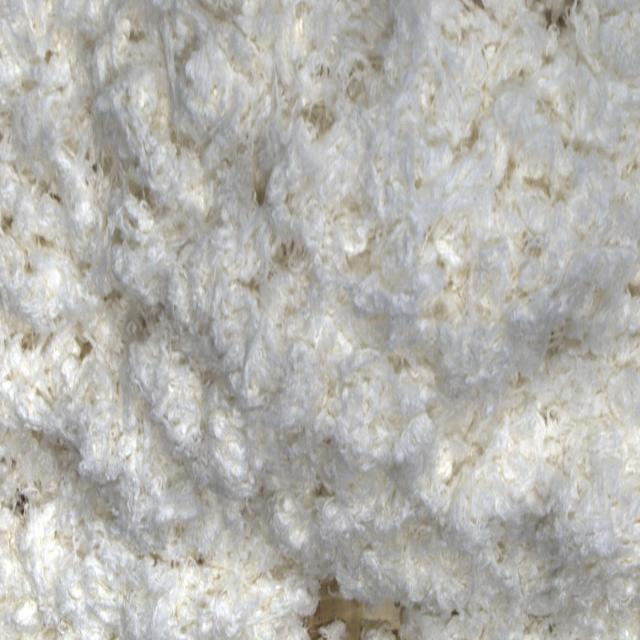dust: (304, 578, 402, 640)
